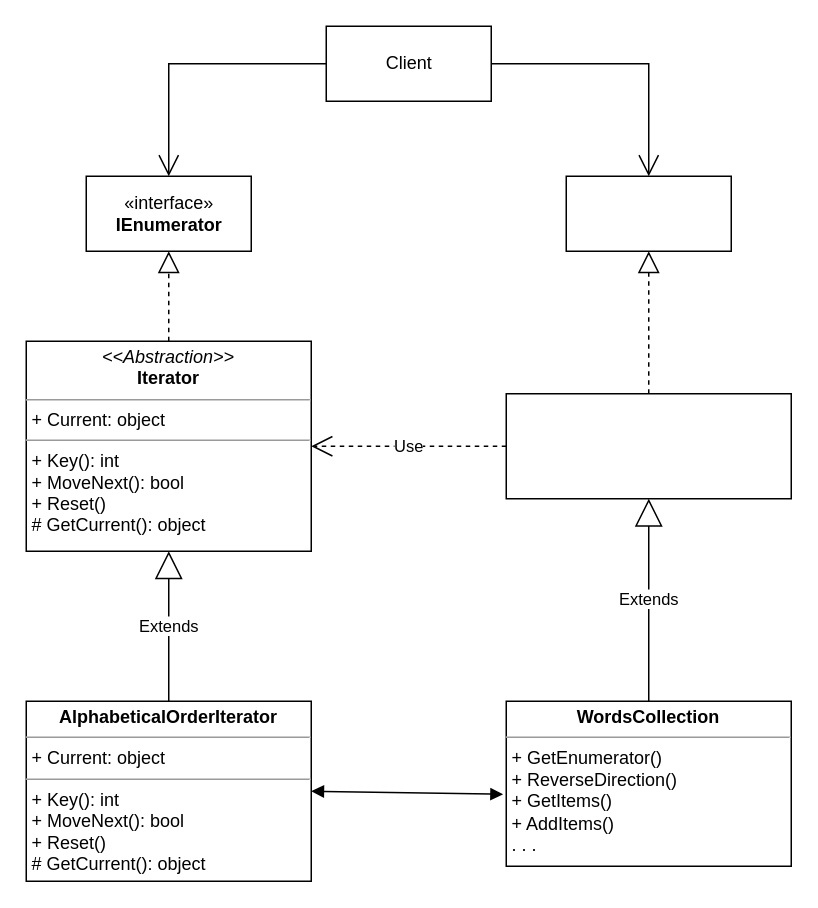
Image size: 818x908. Some labels were removed from this diagram. Here are the shapes that lost their labels. From the top down, the box of each, then its label:
(565, 175, 731, 251): «interface» IEnumerable
(505, 392, 791, 499): <<Abstraction>> IteratorAggregate + GetEnumerator: IEnumerator
